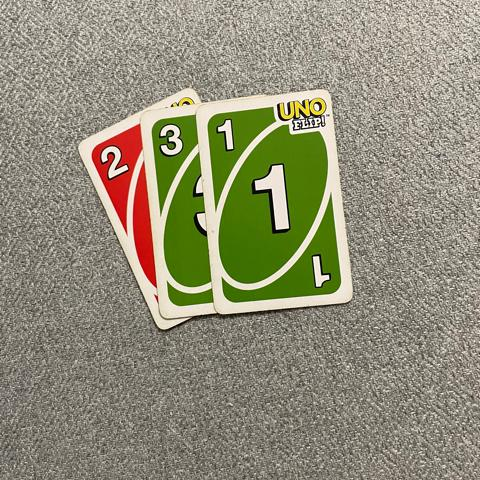lgreen-1: (206, 112, 250, 163)
lgreen-3: (152, 118, 189, 166)
lred-2: (96, 140, 135, 184)
